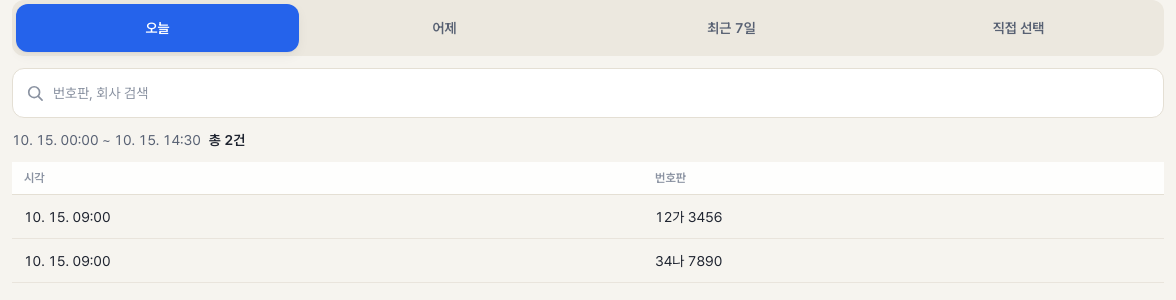
Test: RecordList 검색 › 기간과 검색어를 함께 적용한다: 오늘+검색어 → 어제로 바꿔도 검색어는 유지
This screenshot has width=1176, height=300.
Expected: the text "총 2건" is shown, x1=209 y1=130 x2=245 y2=150
Type "12가" into the search field. click: (604, 93)
box: x1=45 y1=69 x2=1163 y2=117
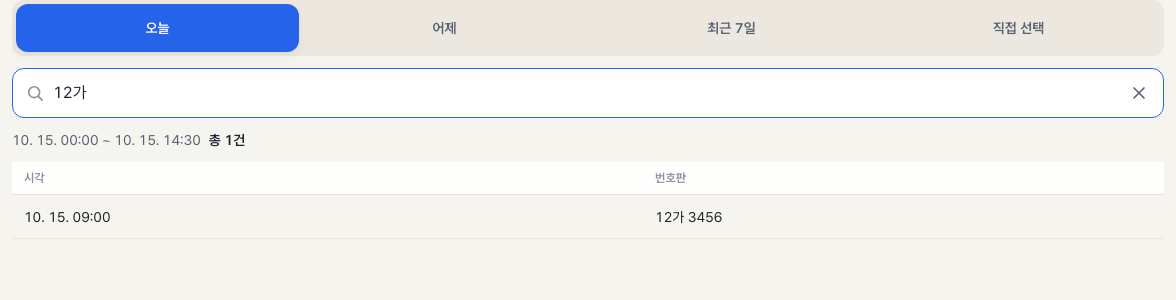
Expected: the table shows "12가 3456", x1=655 y1=208 x2=722 y2=224
Expected: the text "총 1건" is shown, x1=209 y1=130 x2=245 y2=150
Click the button "어제". click: (444, 28)
box: x1=303 y1=4 x2=586 y2=52
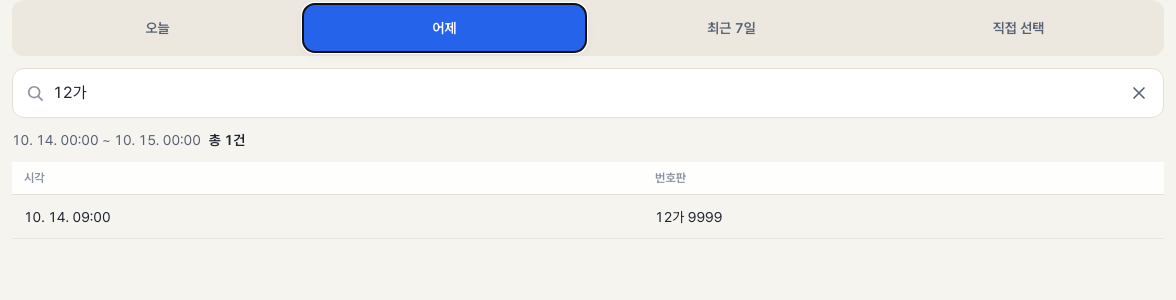
Expected: the text "총 1건" is shown, x1=209 y1=130 x2=245 y2=150
Expected: the table shows "12가 9999", x1=655 y1=208 x2=722 y2=224
Expected: the table no longer shows "12가 3456", x1=12 y1=162 x2=1164 y2=239
